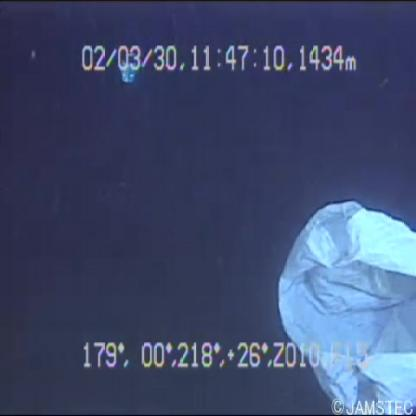Rác: (261, 169, 416, 410)
